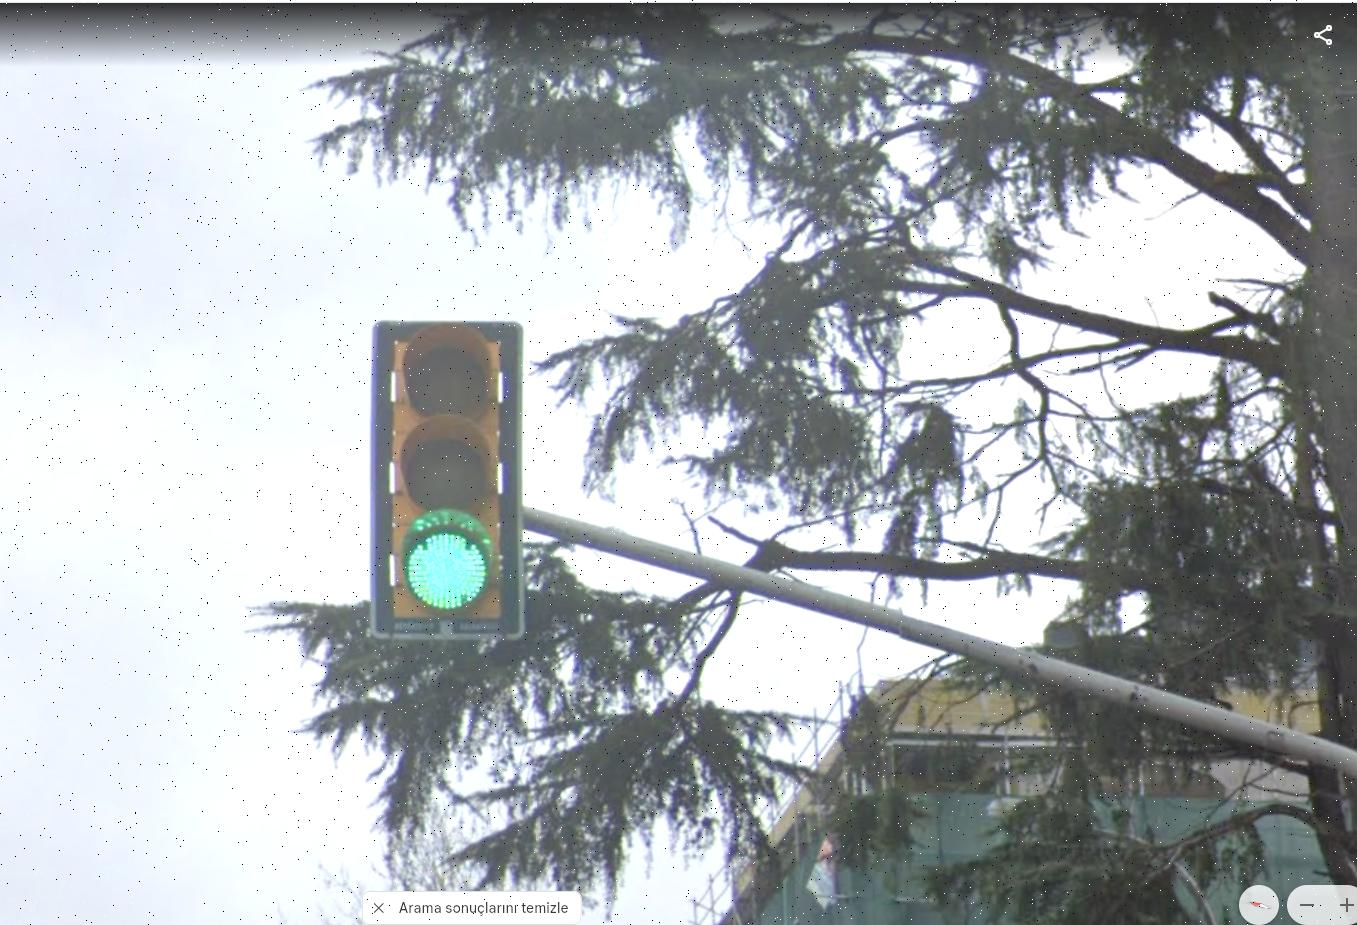greenlight: (368, 319, 519, 622)
